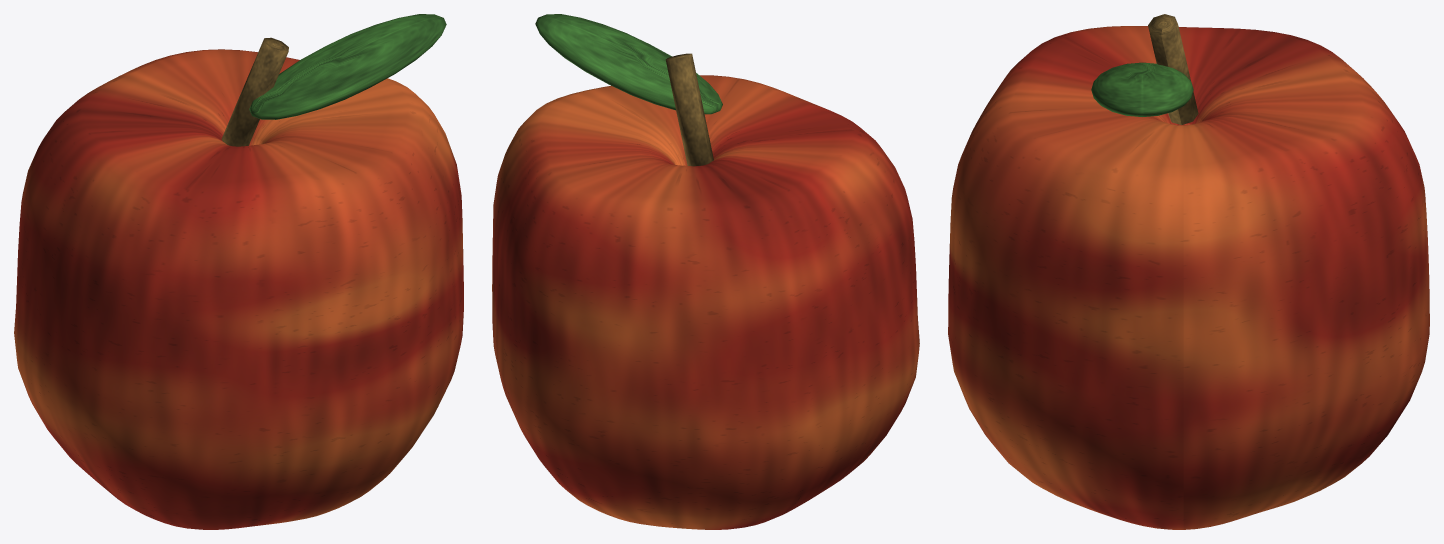
File: apple_red.glb
3 renders of one model, left to right at view 1: azimuth 30°, elevation 25°; view 2: azimuth 150°, elevation 25°; view 3: azimuth 270°, elevation 25°, orthographic. The views are drawn at different scales.
Parts seen in each view (by area): view 1: apple_red, leaf, dry; view 2: apple_red, leaf, dry; view 3: apple_red, leaf, dry.
Boxes of the visible parts, x1,y1,x2,y2 form: apple_red: (14, 49, 463, 529); leaf: (249, 14, 446, 119); dry: (221, 37, 288, 146); apple_red: (492, 75, 919, 529); leaf: (535, 14, 722, 114); dry: (665, 53, 713, 166); apple_red: (948, 26, 1429, 529); leaf: (1091, 62, 1193, 116); dry: (1148, 14, 1198, 124).
Bounding box in the file's own units: 0.0949 × 0.104 × 0.094.
3 materials, 3 textured.
